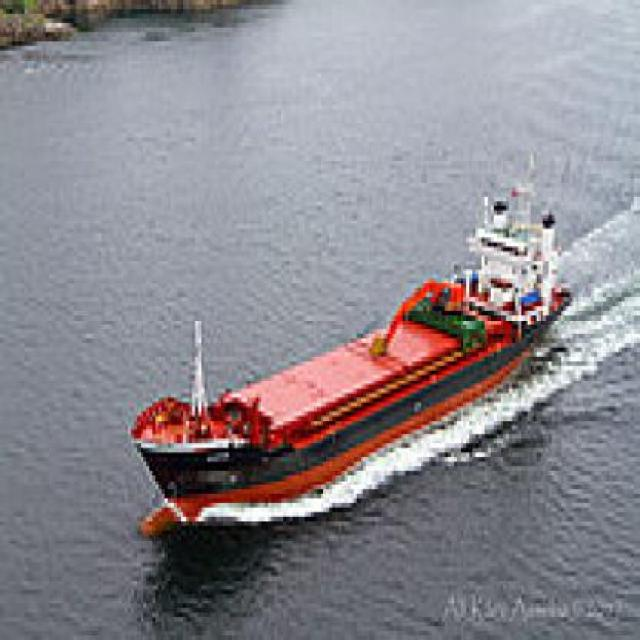container: (126, 161, 574, 550)
